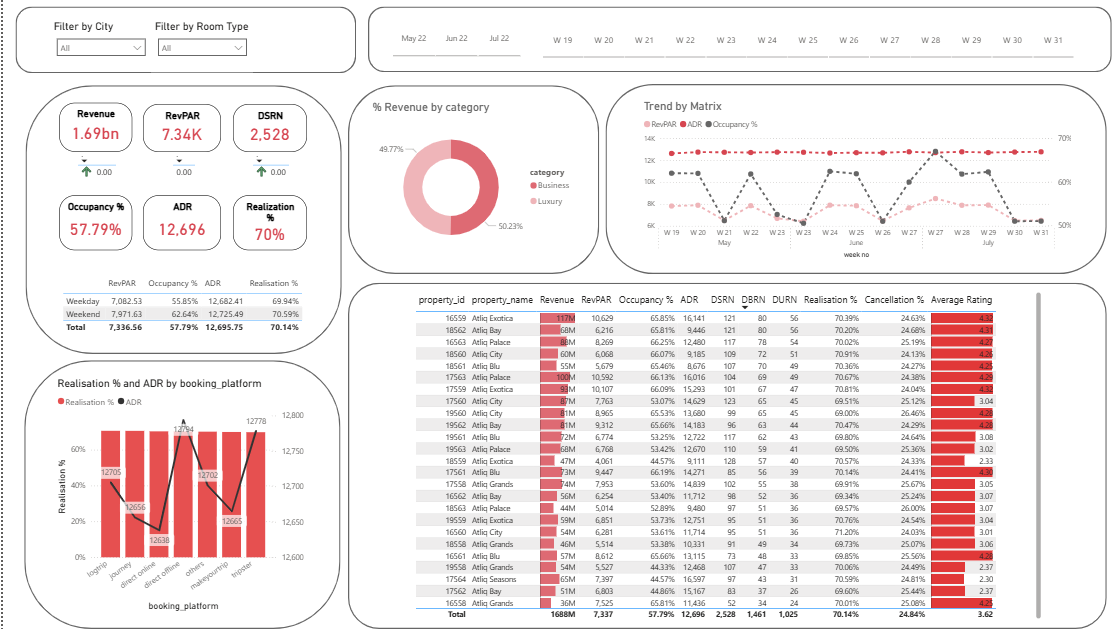

This screenshot's page, from the dashboard's own definition file:
{"tool":"powerbi","page":{"name":"Page 1","canvas":[1800,1100],"ordinal":0},"visuals":[{"type":"shape","box":[552.4,453.6,1214,554],"z":0},{"type":"shape","box":[552.4,137.6,402,302],"z":1000},{"type":"shape","box":[964.4,135.6,802,304],"z":2000},{"type":"shape","box":[34.4,577.6,506,430],"z":3000},{"type":"shape","box":[584.4,11.6,1190,105],"z":4000},{"type":"shape","box":[36.4,137.6,506,430],"z":5000},{"type":"shape","box":[19.4,11.6,545,106.7],"z":6000},{"type":"tableEx","fields":{"Values":["dim_hotels.property_id","dim_hotels.property_name","key_measures.Revenue","key_measures.RevPAR","key_measures.Occupancy %","key_measures.ADR","key_measures.DSRN","key_measures.DBRN","key_measures.DURN","key_measures.Realisation %","key_measures.Cancellation %","key_measures.Average Rating"]},"box":[654.4,463.6,1012,534],"z":7000},{"type":"slicer","title":"Filter by City","fields":{"Values":["dim_hotels.city"]},"box":[76.1,33.3,161.7,65],"z":8000},{"type":"slicer","title":"Filter by Room Type","fields":{"Values":["dim_rooms.room_class"]},"box":[237.7,33.3,161.7,83.3],"z":9000},{"type":"slicer","fields":{"Values":["dim_date.mmm yy"]},"box":[597.7,28.3,253.3,70],"z":10000},{"type":"slicer","fields":{"Values":["dim_date.week no"]},"box":[837.7,29.9,898.3,70],"z":11000},{"type":"tableEx","fields":{"Values":["key_measures.Revenue WoW change %"]},"box":[114.7,232.3,75,70],"z":12000},{"type":"donutChart","title":"% Revenue by category","fields":{"Category":["dim_hotels.category"],"Y":["key_measures.Occupancy %"]},"box":[586.4,161.6,336,258],"z":13000},{"type":"card","title":"Occupancy %","fields":{"Values":["key_measures.Occupancy %"]},"box":[89.7,313.9,116.7,88.3],"z":14000},{"type":"tableEx","fields":{"Values":["key_measures.DSRN WoW change %"]},"box":[266.3,232.3,68.3,70],"z":15000},{"type":"tableEx","fields":{"Values":["key_measures.Revenue WoW change %"]},"box":[393,232.3,70,70],"z":16000},{"type":"card","title":"DSRN","fields":{"Values":["key_measures.DSRN"]},"box":[368,167.3,118.3,76.7],"z":17000},{"type":"card","title":"RevPAR","fields":{"Values":["key_measures.RevPAR"]},"box":[224.7,167.3,125,76.7],"z":18000},{"type":"card","title":"Revenue","fields":{"Values":["key_measures.Revenue"]},"box":[89.7,165.6,116.7,78.3],"z":19000},{"type":"card","title":"ADR","fields":{"Values":["key_measures.ADR"]},"box":[224.7,313.9,125,88.3],"z":20000},{"type":"card","title":"Realization %","fields":{"Values":["key_measures.Realisation %"]},"box":[368,313.9,118.3,88.3],"z":21000},{"type":"lineChart","title":"Trend by Matrix","fields":{"Category":["dim_date.mmm yy.Variation.Date Hierarchy.Month","dim_date.week no"],"Y":["key_measures.RevPAR","key_measures.ADR"],"Y2":["key_measures.Occupancy %"]},"box":[1020.4,159.6,694,260],"z":22000},{"type":"lineStackedColumnComboChart","fields":{"Category":["fact_bookings.booking_platform"],"Y":["key_measures.Realisation %"],"Y2":["key_measures.ADR"]},"box":[82.4,603.6,404,380],"z":23000},{"type":"tableEx","fields":{"Values":["dim_date.day type","key_measures.RevPAR","key_measures.Occupancy %","key_measures.ADR","key_measures.Realisation %"]},"box":[89.7,438.9,396.7,106.7],"z":24000},{"type":"shape","box":[34,1008,1732,92],"z":24001}]}

Visuals, with their boxes on the page's 1800x1100 design canvas (x1, y1, x2, y2). These are canvas units, not pixel positions in the 1119x629 screenshot, which may show the page scaled, cropped or inside an application window:
shape: pyautogui.locateOnScreen(552, 454, 1766, 1008)
shape: pyautogui.locateOnScreen(552, 138, 954, 440)
shape: pyautogui.locateOnScreen(964, 136, 1766, 440)
shape: pyautogui.locateOnScreen(34, 578, 540, 1008)
shape: pyautogui.locateOnScreen(584, 12, 1774, 117)
shape: pyautogui.locateOnScreen(36, 138, 542, 568)
shape: pyautogui.locateOnScreen(19, 12, 564, 118)
tableEx - dim_hotels.property_id x dim_hotels.property_name: pyautogui.locateOnScreen(654, 464, 1666, 998)
"Filter by City" slicer: pyautogui.locateOnScreen(76, 33, 238, 98)
"Filter by Room Type" slicer: pyautogui.locateOnScreen(238, 33, 399, 117)
slicer - dim_date.mmm yy: pyautogui.locateOnScreen(598, 28, 851, 98)
slicer - dim_date.week no: pyautogui.locateOnScreen(838, 30, 1736, 100)
tableEx - key_measures.Revenue WoW change %: pyautogui.locateOnScreen(115, 232, 190, 302)
"% Revenue by category" donutChart: pyautogui.locateOnScreen(586, 162, 922, 420)
"Occupancy %" card: pyautogui.locateOnScreen(90, 314, 206, 402)
tableEx - key_measures.DSRN WoW change %: pyautogui.locateOnScreen(266, 232, 335, 302)
tableEx - key_measures.Revenue WoW change %: pyautogui.locateOnScreen(393, 232, 463, 302)
"DSRN" card: pyautogui.locateOnScreen(368, 167, 486, 244)
"RevPAR" card: pyautogui.locateOnScreen(225, 167, 350, 244)
"Revenue" card: pyautogui.locateOnScreen(90, 166, 206, 244)
"ADR" card: pyautogui.locateOnScreen(225, 314, 350, 402)
"Realization %" card: pyautogui.locateOnScreen(368, 314, 486, 402)
"Trend by Matrix" lineChart: pyautogui.locateOnScreen(1020, 160, 1714, 420)
lineStackedColumnComboChart - fact_bookings.booking_platform x key_measures.Realisation %: pyautogui.locateOnScreen(82, 604, 486, 984)
tableEx - dim_date.day type x key_measures.RevPAR: pyautogui.locateOnScreen(90, 439, 486, 546)
shape: pyautogui.locateOnScreen(34, 1008, 1766, 1100)
